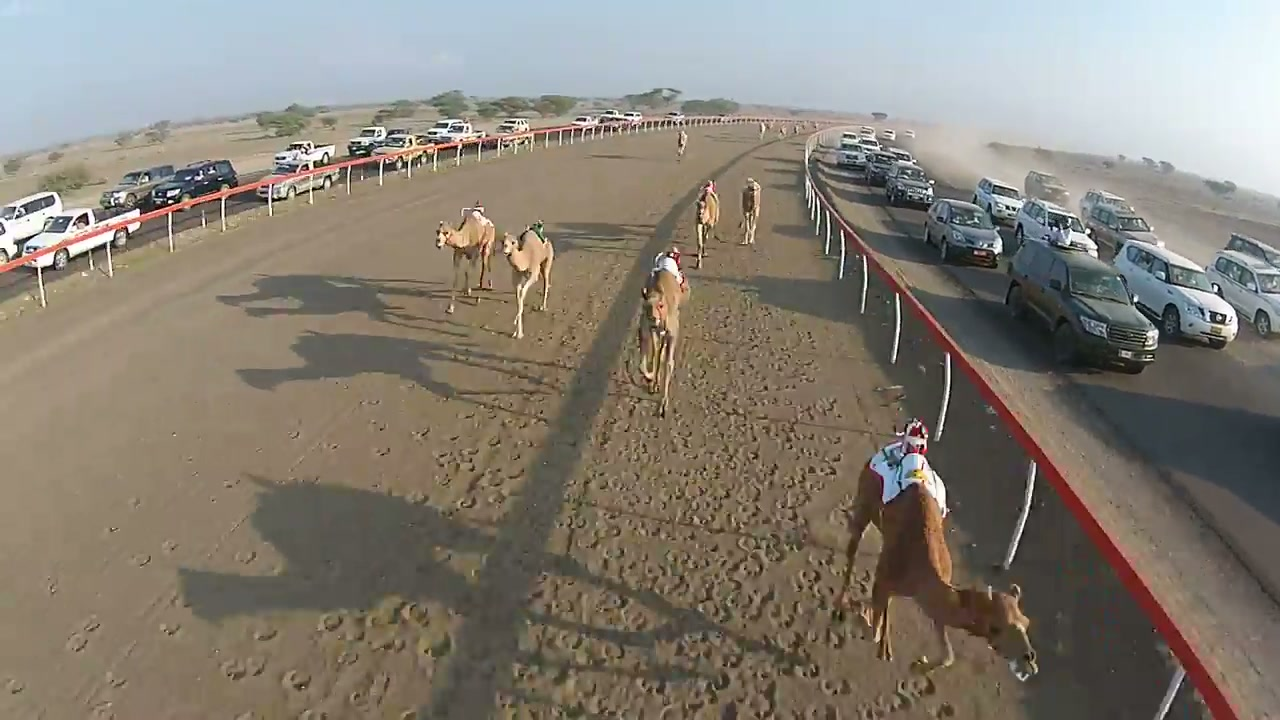animal_foot_print: (200, 338, 524, 719), (557, 394, 826, 700), (856, 677, 936, 719), (896, 675, 936, 703), (929, 702, 956, 719)
